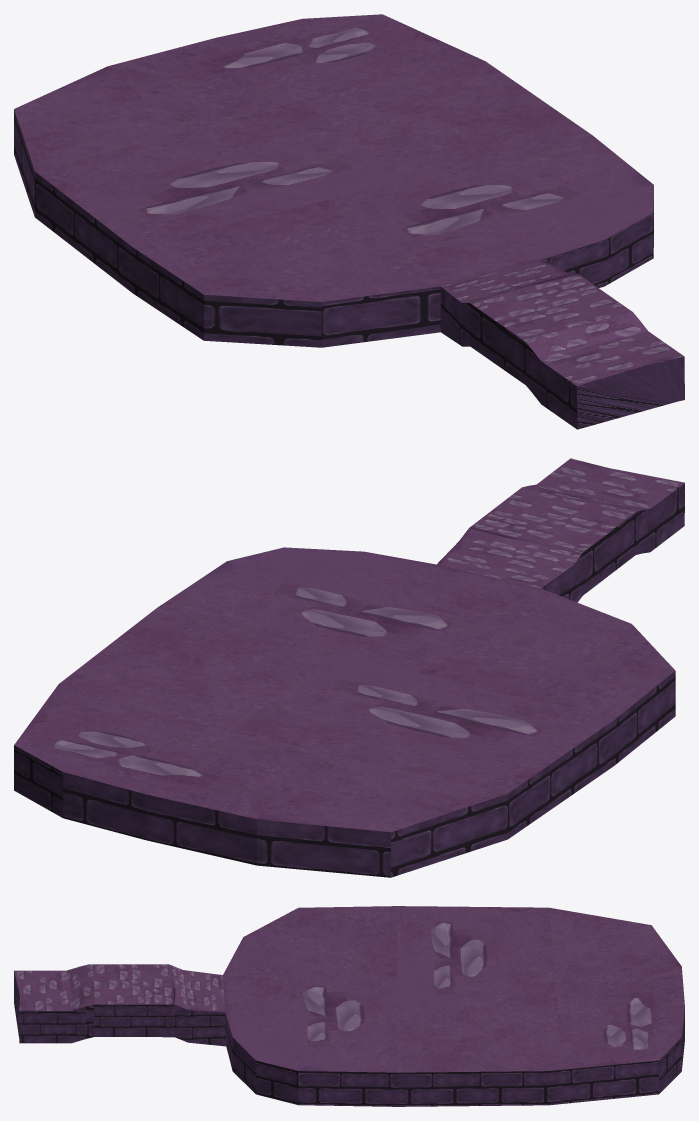
File: BOSS--2.fbx
3 views of the same model, one above another, from view 1: azimuth 30°, elevation 25°; view 2: azimuth 150°, elevation 25°; view 3: azimuth 270°, elevation 25° (orthographic). The views are drawn at different scales.
Visible parts, largest first — view 1: BOSS關地板; view 2: BOSS關地板; view 3: BOSS關地板.
Boxes of the visible parts, left/top/right/bottom form: BOSS關地板: left=14, top=14, right=684, bottom=429; BOSS關地板: left=14, top=458, right=684, bottom=877; BOSS關地板: left=14, top=906, right=684, bottom=1106.
Size of the model in its own units: 7695 by 935 by 13096.
Materials: 4 (4 with a texture image).
